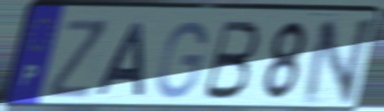8: (260, 17, 312, 104)
A: (94, 20, 147, 98)
B: (199, 18, 263, 102)
G: (154, 18, 209, 102)
N: (297, 16, 379, 107)
Z: (45, 17, 110, 101)
